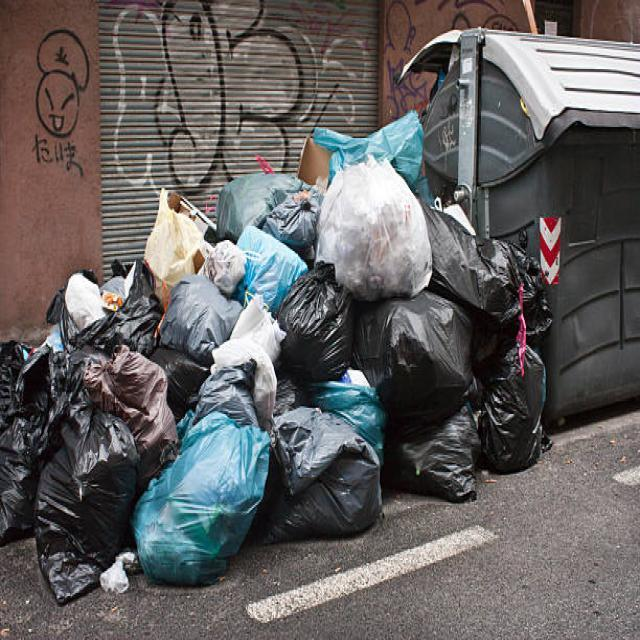garbage: (0, 112, 557, 599)
